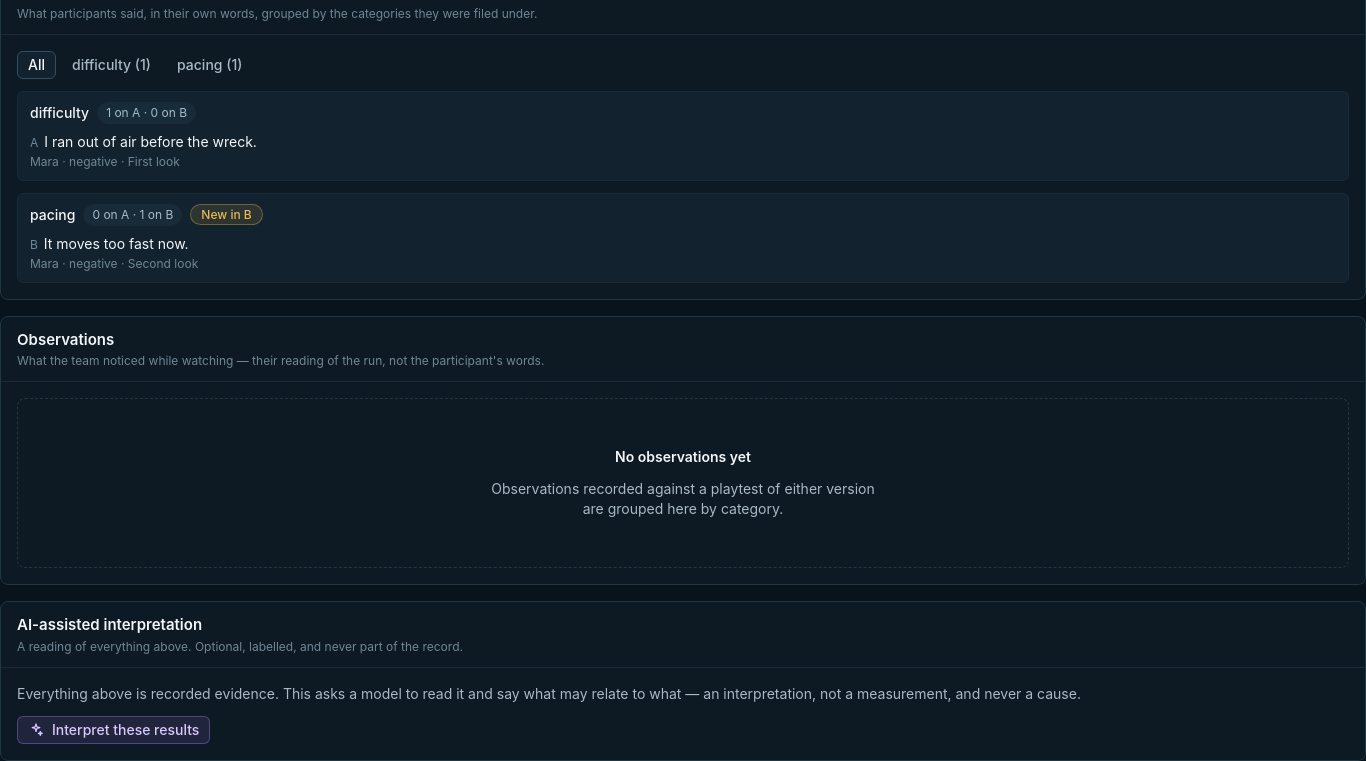
Test: Changes vs Outcomes › asks for an interpretation only when told to, and labels what comes back
The width and height of the screenshot is (1366, 761).
(page scrolled)
Check: the text "AI interpretation" is not shown
Click the button "Interpret these results": {"x": 114, "y": 730} [17,716,210,744]
(page scrolled)
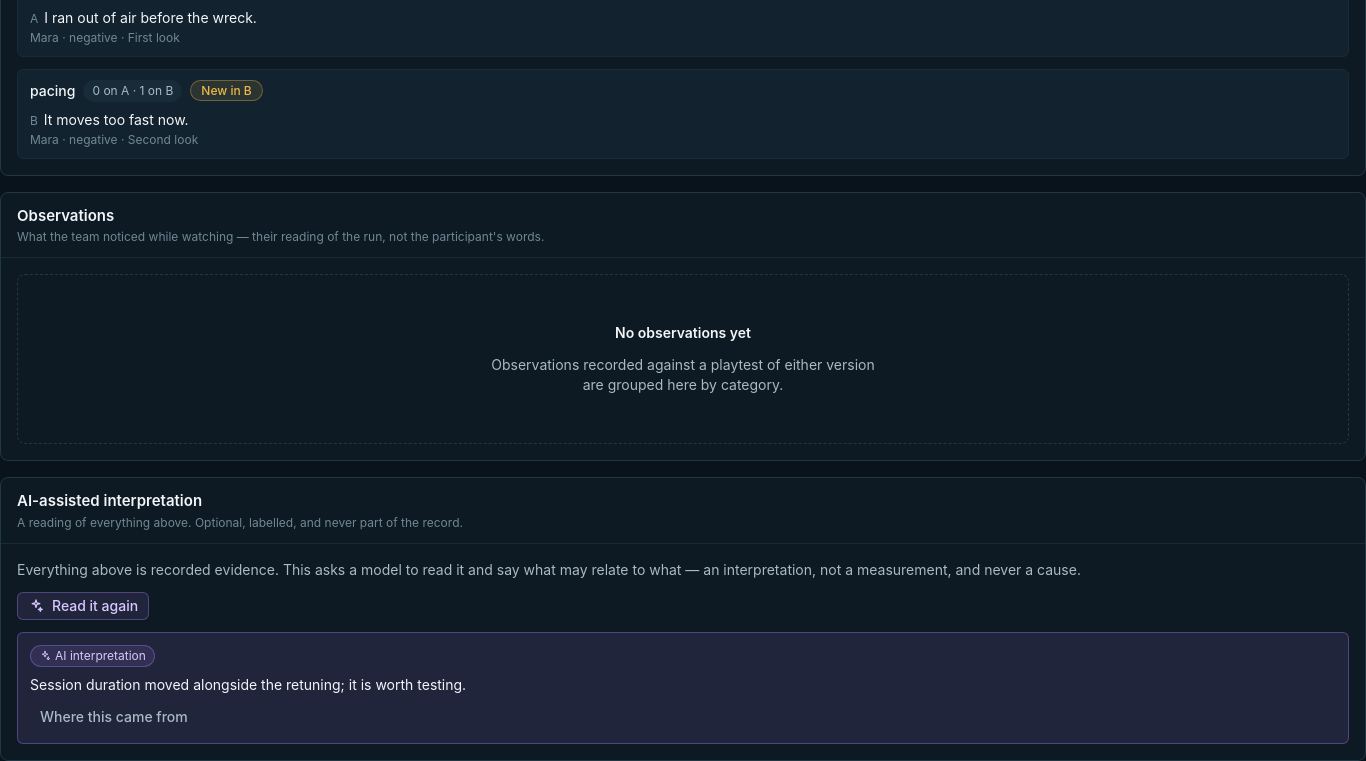
Check: the text "AI interpretation" is shown, box [30,644,155,666]
Check: the text "Session duration moved alongside the retuning; it is worth testing." is shown, box [30,676,466,692]
Check: the button "Where this came from" is shown, box [30,702,198,730]
